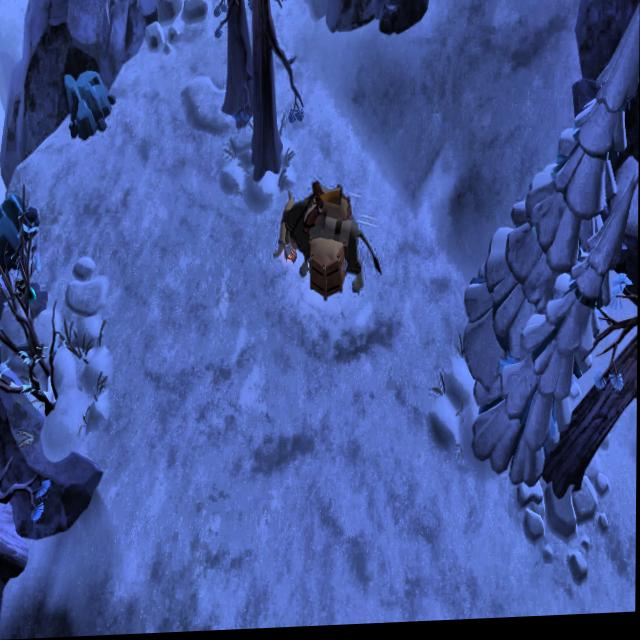rock_t4: (60, 67, 118, 142), (0, 191, 41, 266)
